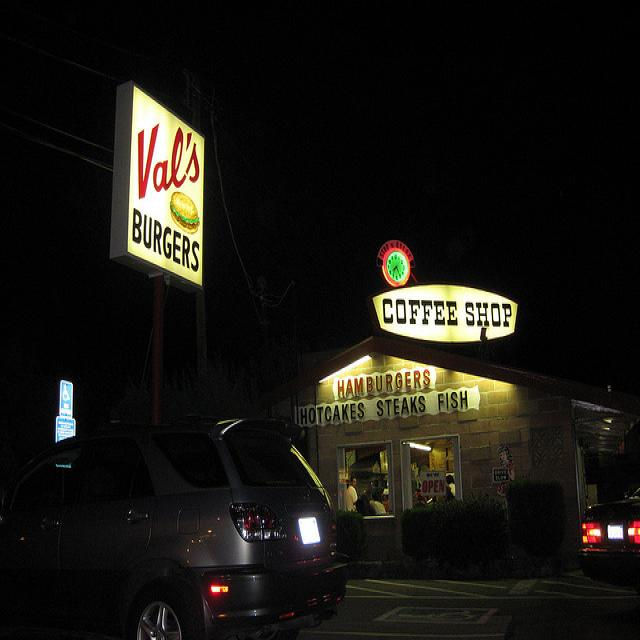Car: (2, 422, 347, 640)
